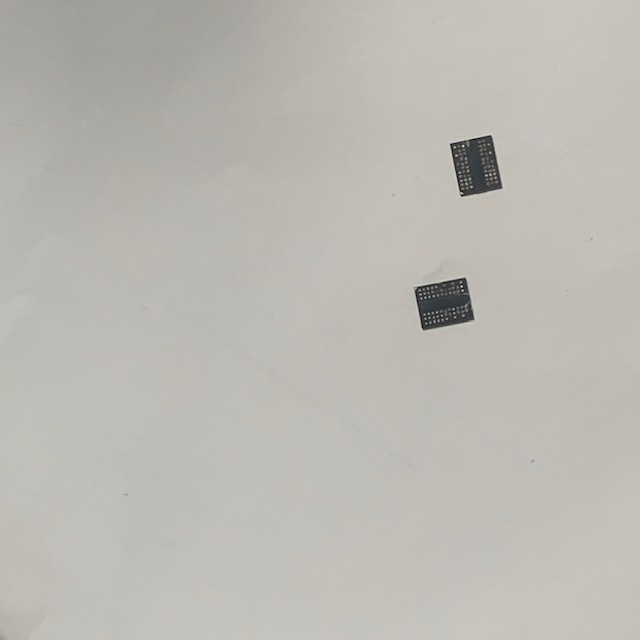IC: (448, 133, 506, 199), (413, 274, 476, 334)
